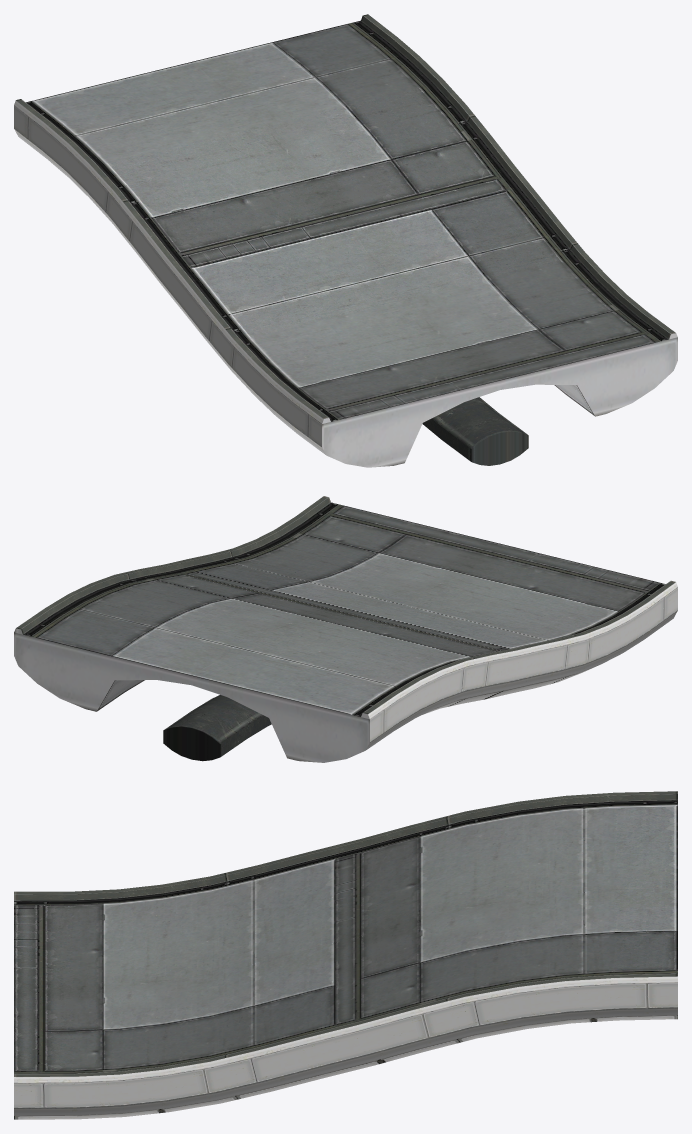
Rendered from Neon_SrvWalkRamp.FBX.
3 renders of one model, top to bottom at view 1: azimuth 30°, elevation 25°; view 2: azimuth 150°, elevation 25°; view 3: azimuth 270°, elevation 25°, orthographic. The views are drawn at different scales.
Parts seen in each view (by area): view 1: Neon_SrvWalkRamp; view 2: Neon_SrvWalkRamp; view 3: Neon_SrvWalkRamp.
Part boxes in pixels (bbox=[...]): Neon_SrvWalkRamp: bbox=[14, 14, 677, 467]; Neon_SrvWalkRamp: bbox=[14, 496, 677, 762]; Neon_SrvWalkRamp: bbox=[14, 791, 677, 1119].
Size of the model in its own units: 4 by 1.95 by 6.
